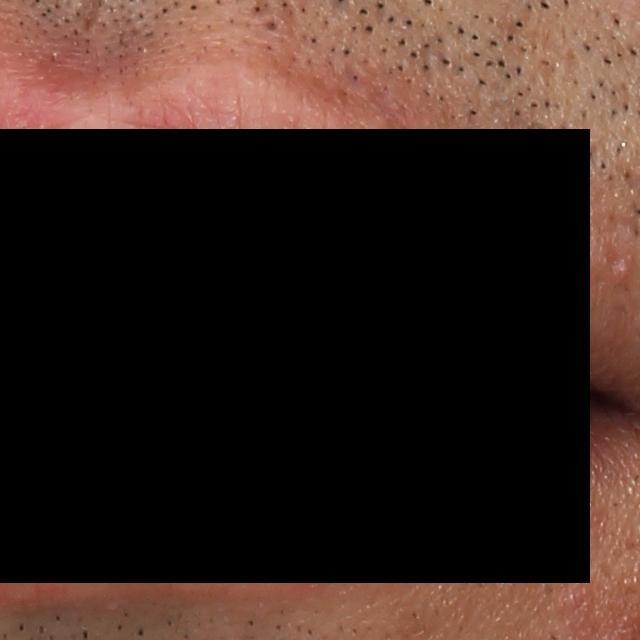papule: (606, 248, 637, 285)
